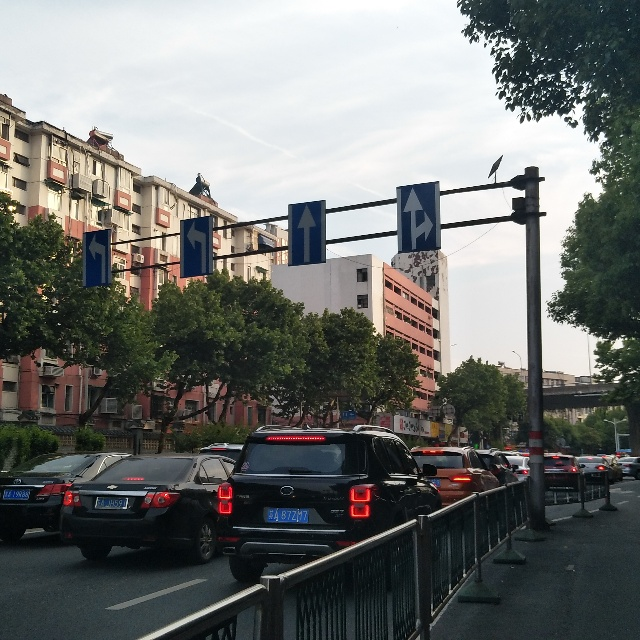left: (180, 218, 214, 273), (84, 229, 108, 284)
straight: (287, 201, 326, 265)
